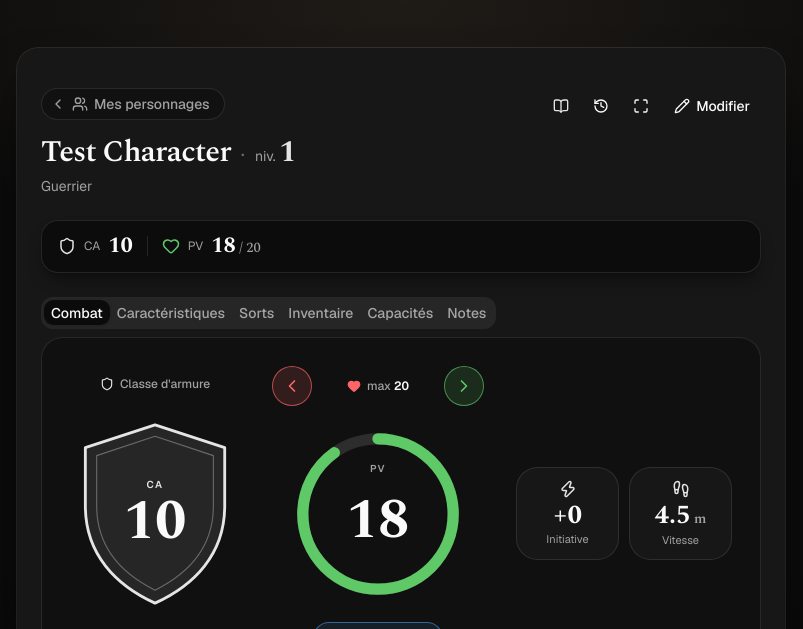
Test: Épuisement (mode jeu) › warns about disadvantage in the Caractéristiques tab
The width and height of the screenshot is (803, 629).
Expected: the heading "Test Character" is shown, top-left (41, 134), bottom-right (231, 170)
Click the tab "Caractéristiques" at (171,313), box top-left (110, 300), bottom-right (232, 325)
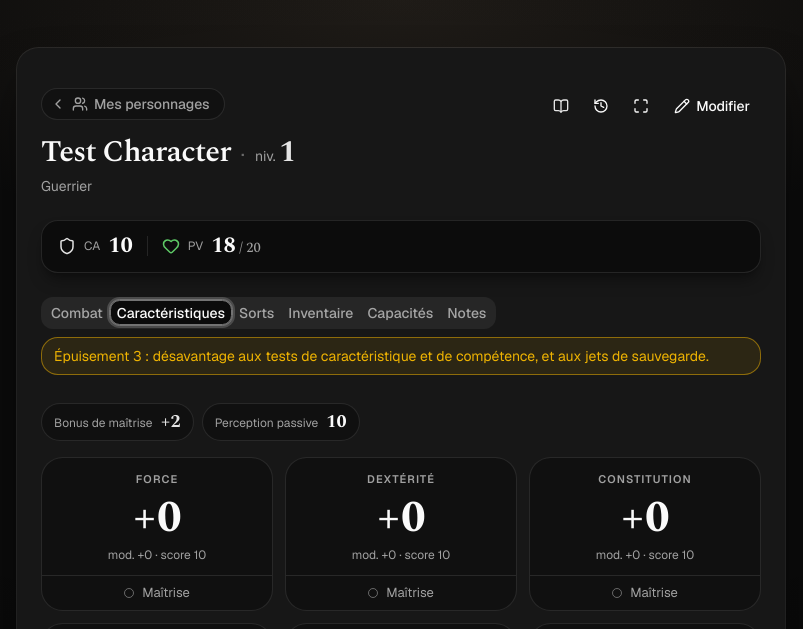
Result: the text "Épuisement 3 : désavantage aux tests de caractéristique et de compétence, et aux jets de sauvegarde." is shown at top-left (41, 337), bottom-right (761, 375)
